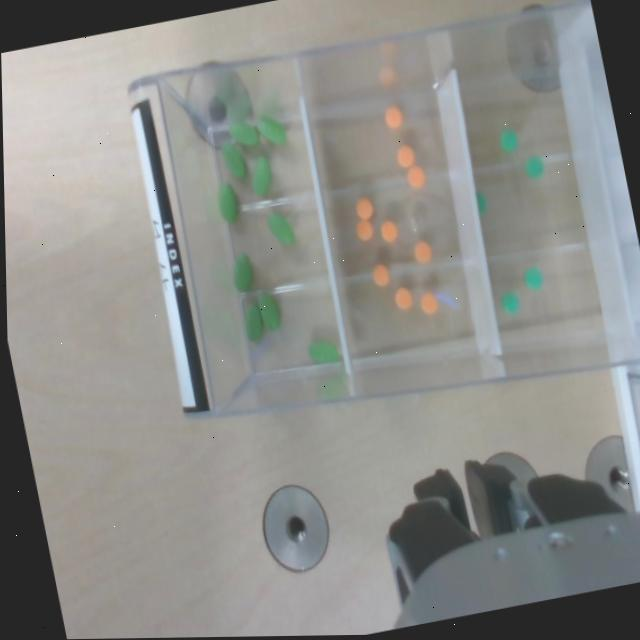famodine: (497, 126, 521, 153), (520, 153, 544, 178), (521, 263, 544, 289), (499, 288, 521, 315)
otillen_tab: (245, 151, 275, 195), (252, 285, 281, 330), (213, 178, 240, 224), (265, 207, 295, 247), (217, 138, 246, 179), (254, 110, 287, 146), (227, 249, 254, 292), (228, 114, 259, 148), (306, 333, 338, 365), (239, 303, 264, 343), (266, 210, 293, 244), (220, 141, 244, 179), (256, 114, 285, 143), (216, 182, 237, 222), (256, 290, 278, 328), (250, 153, 269, 195), (243, 298, 262, 340), (232, 252, 252, 291), (307, 337, 338, 362), (227, 119, 257, 144)
samsung_octylonium_tab: (380, 104, 404, 130), (369, 261, 391, 287), (391, 284, 412, 309), (395, 142, 415, 168), (412, 239, 432, 264), (405, 164, 425, 188), (379, 217, 399, 241), (353, 196, 373, 219), (354, 217, 374, 240), (418, 291, 437, 313)
